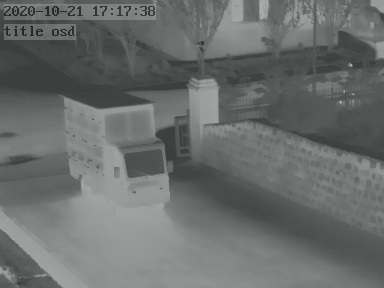vehicle: (61, 91, 171, 211)
